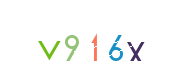1: (55, 0, 135, 80)
6: (76, 0, 156, 80)
9: (52, 0, 132, 80)
V: (25, 0, 105, 80)
X: (95, 0, 175, 80)
